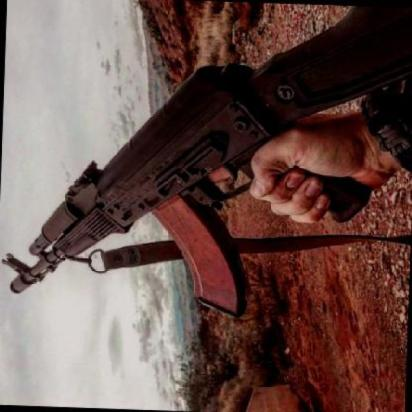Gun: (2, 13, 380, 328)
